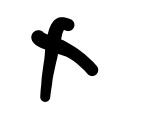mult: (31, 16, 99, 101)
